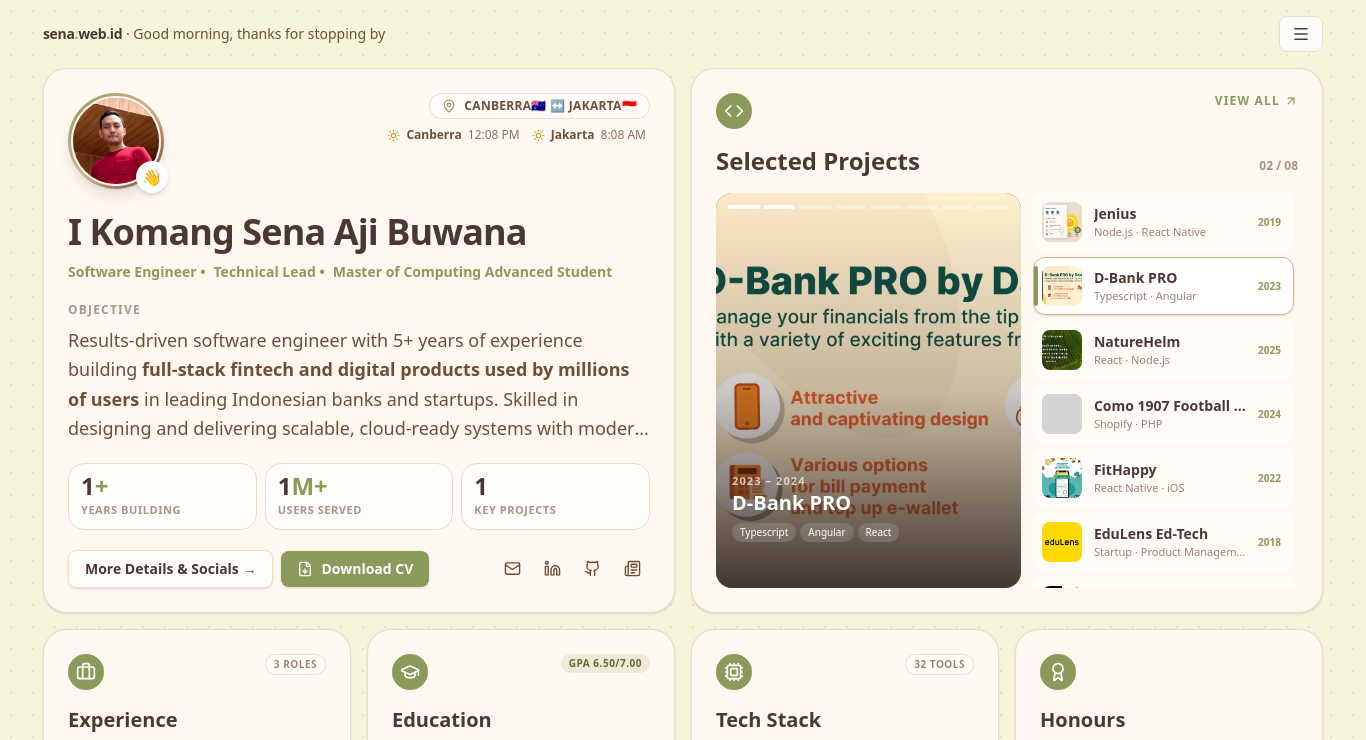
Test: App (Portfolio) › closes modal when close button is clicked
The width and height of the screenshot is (1366, 740).
# Open about modal
Click the text "More Details & Socials →" at (359, 568), box x1=68 y1=550 x2=650 y2=588
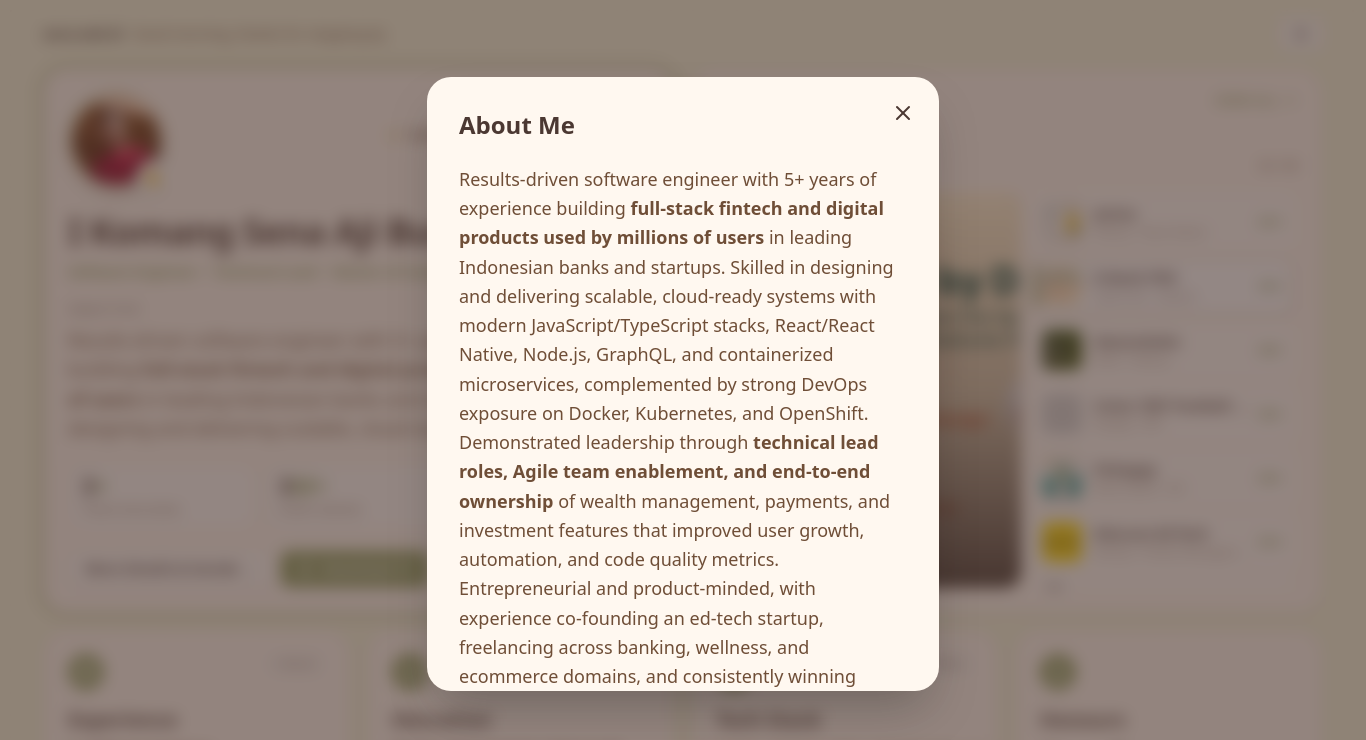
Now the heading "About Me" is shown, box x1=459 y1=108 x2=575 y2=141
# Close modal
Click the button at (903, 113), box x1=883 y1=93 x2=923 y2=133
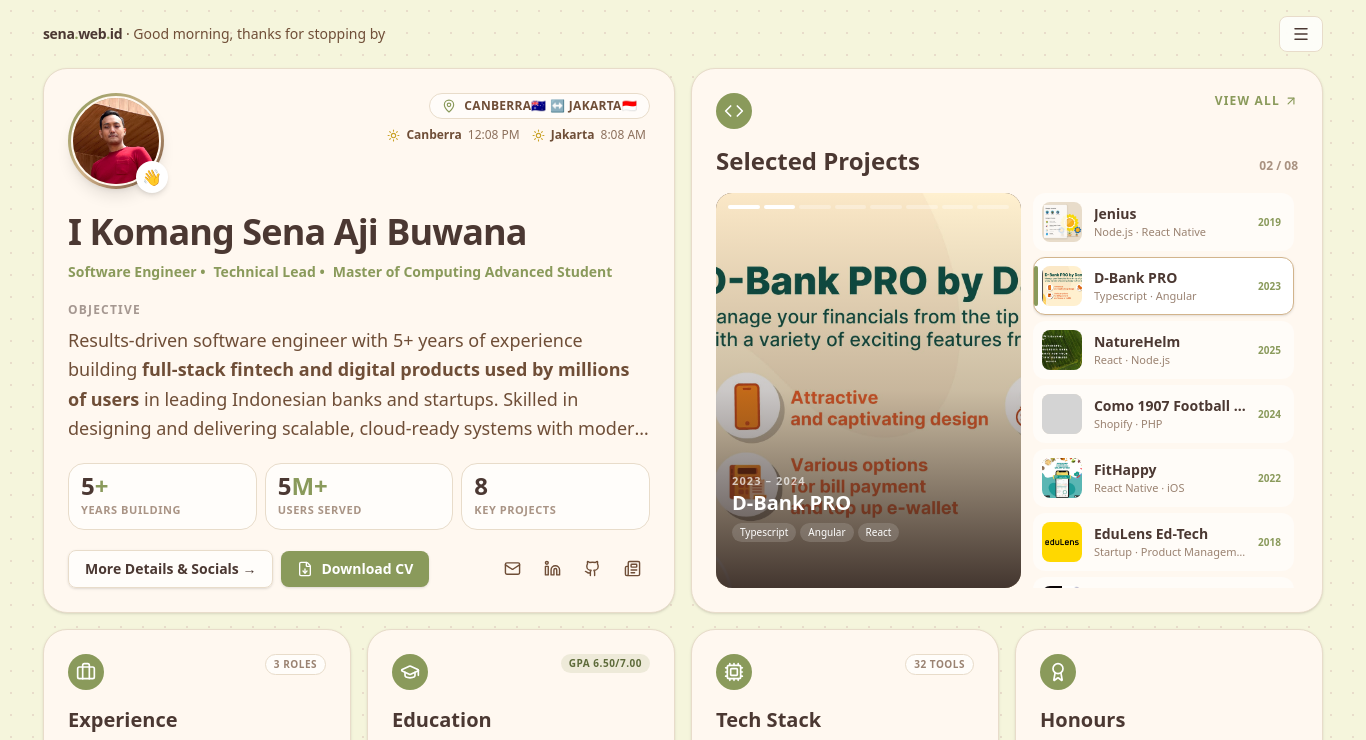
Now the heading "About Me" is gone
